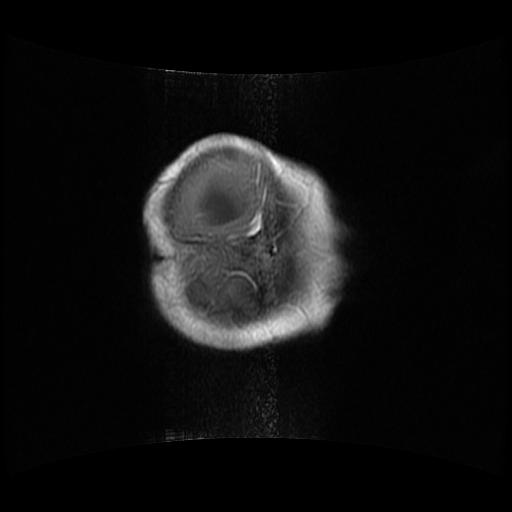glioma: (195, 178, 249, 228)
